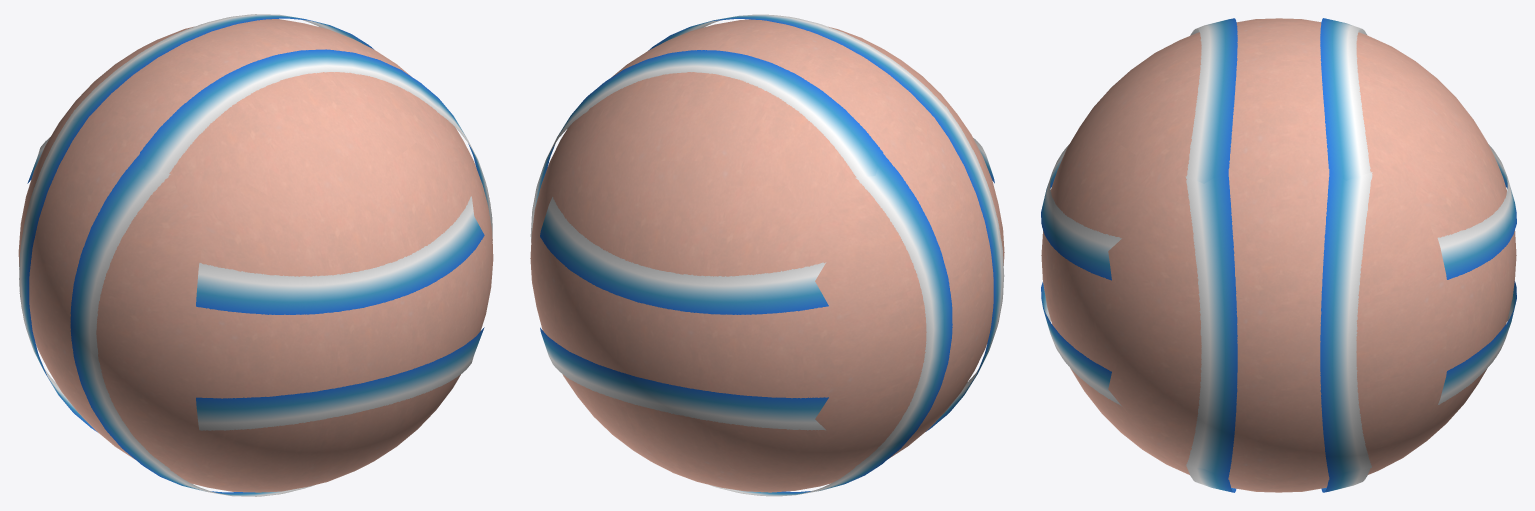
File: corsucant-01.obj
3 renders of one model, left to right at view 1: azimuth 30°, elevation 25°; view 2: azimuth 150°, elevation 25°; view 3: azimuth 270°, elevation 25°, orthographic.
Visible parts, largest first — view 1: Clouds, Athmosphere; view 2: Clouds, Athmosphere; view 3: Clouds, Athmosphere.
Boxes of the visible parts, bbox=[...] form: Clouds: bbox=[18, 19, 493, 492]; Athmosphere: bbox=[19, 14, 492, 496]; Clouds: bbox=[530, 19, 1004, 492]; Athmosphere: bbox=[530, 14, 1004, 496]; Clouds: bbox=[1041, 18, 1516, 492]; Athmosphere: bbox=[1041, 18, 1516, 492].
Bounding box in the file's own units: 2657 × 2662 × 2662.
Materials: 3 (3 with a texture image).
